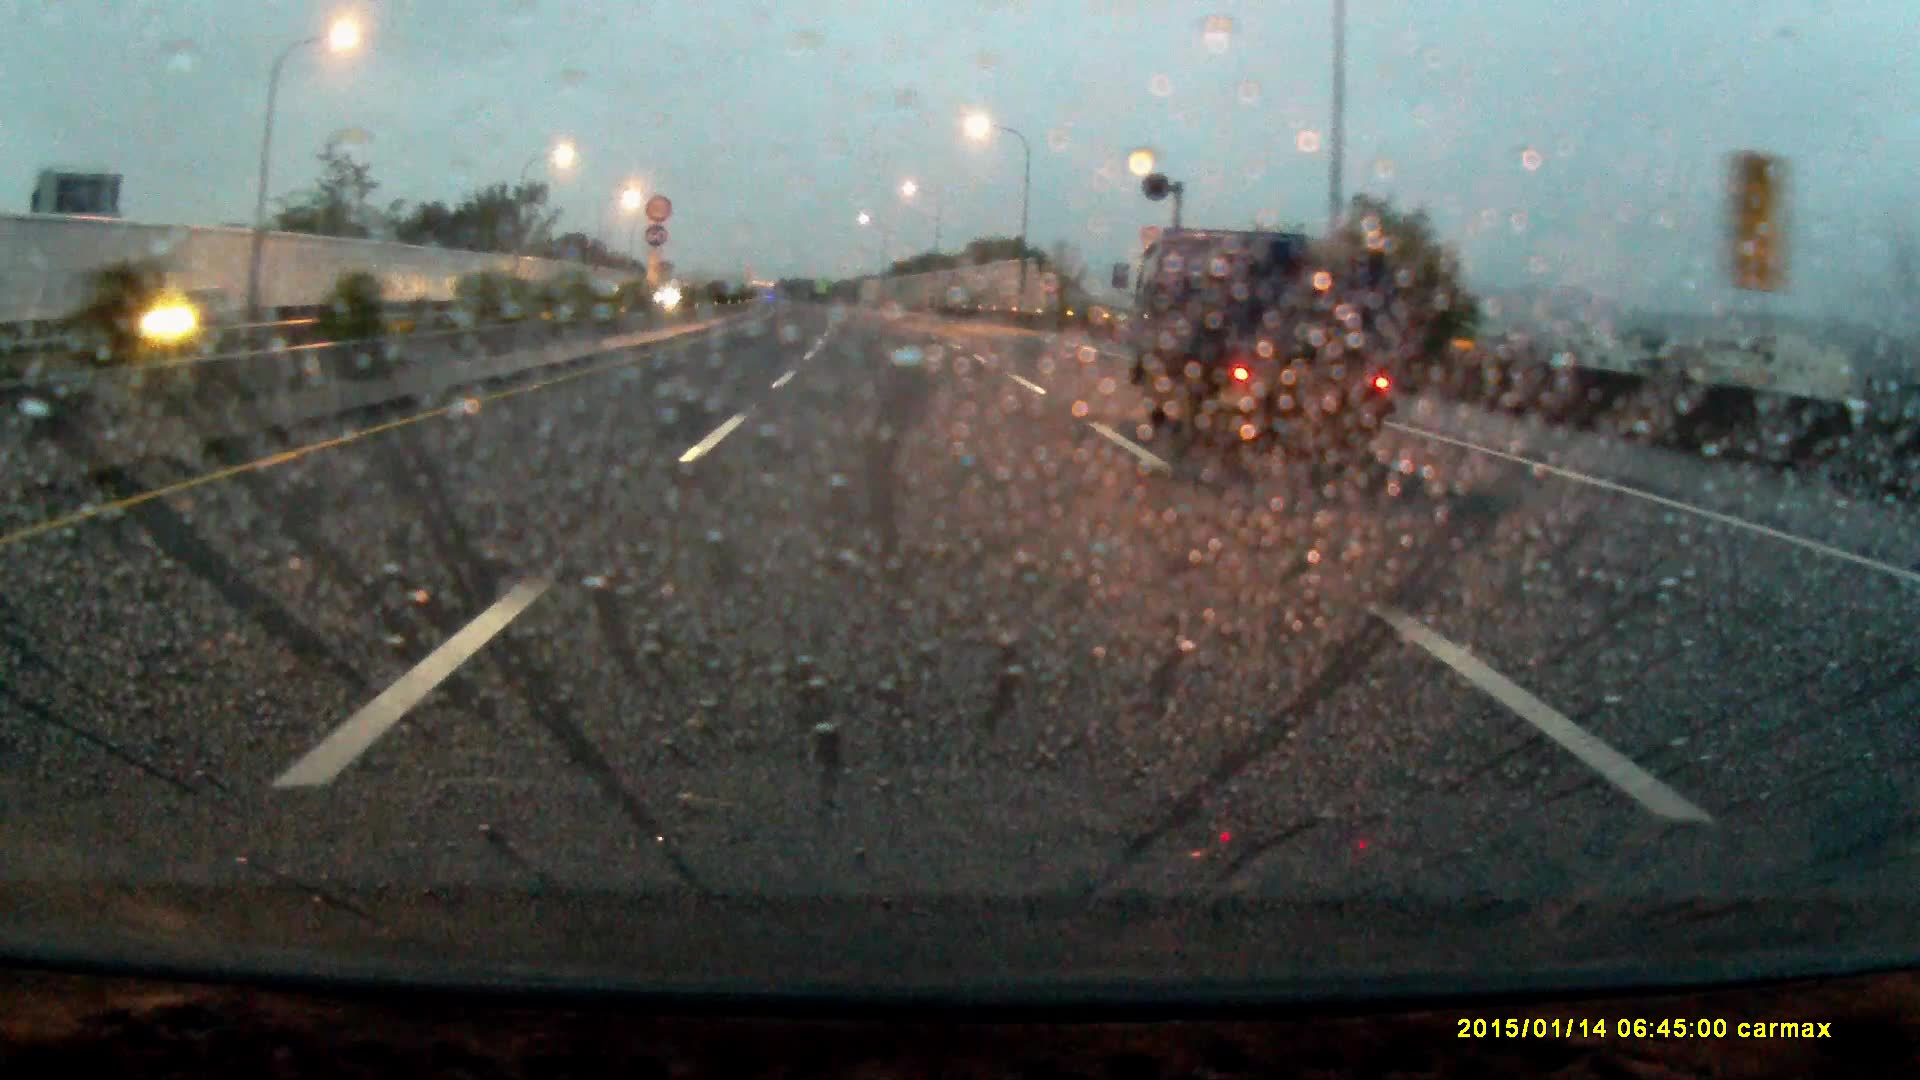vehicle: (1153, 220, 1418, 491), (131, 285, 245, 331)
